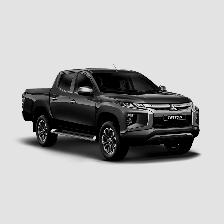NON-EV: (22, 63, 202, 163)
